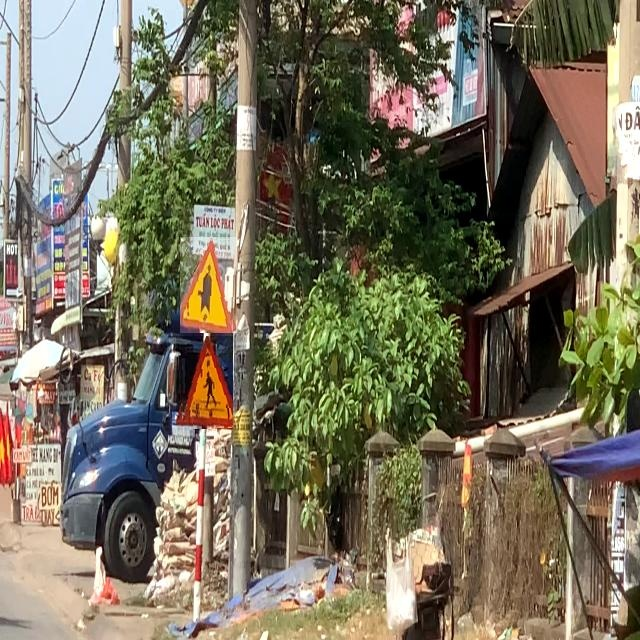bien_nguy_hiem: (180, 237, 237, 333), (176, 336, 233, 430)
